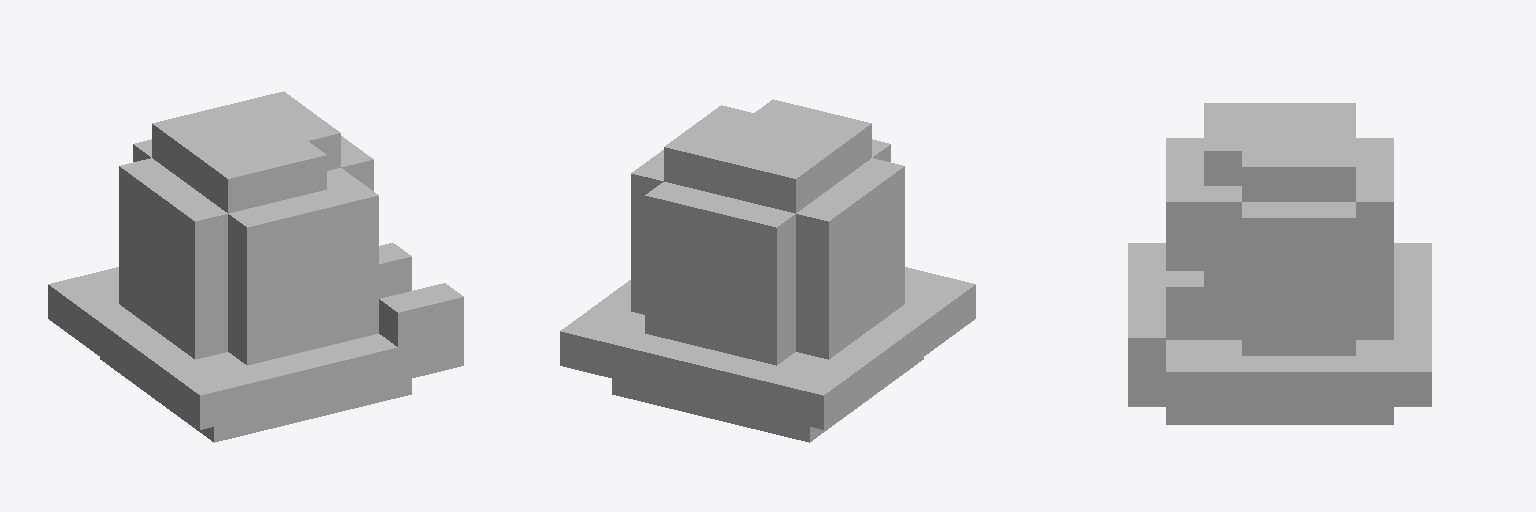
The model's file is SpiderSilk.obj.
3 renders of one model, left to right at view 1: azimuth 30°, elevation 25°; view 2: azimuth 150°, elevation 25°; view 3: azimuth 270°, elevation 25°, orthographic.
Parts seen in each view (by area): view 1: object 1; view 2: object 1; view 3: object 1.
Part boxes in pixels (x1,y1,x2,y2): object 1: (48, 91, 463, 442); object 1: (560, 99, 975, 442); object 1: (1128, 103, 1431, 424).
Bounding box in the file's own units: 0.8 × 0.7 × 0.8.